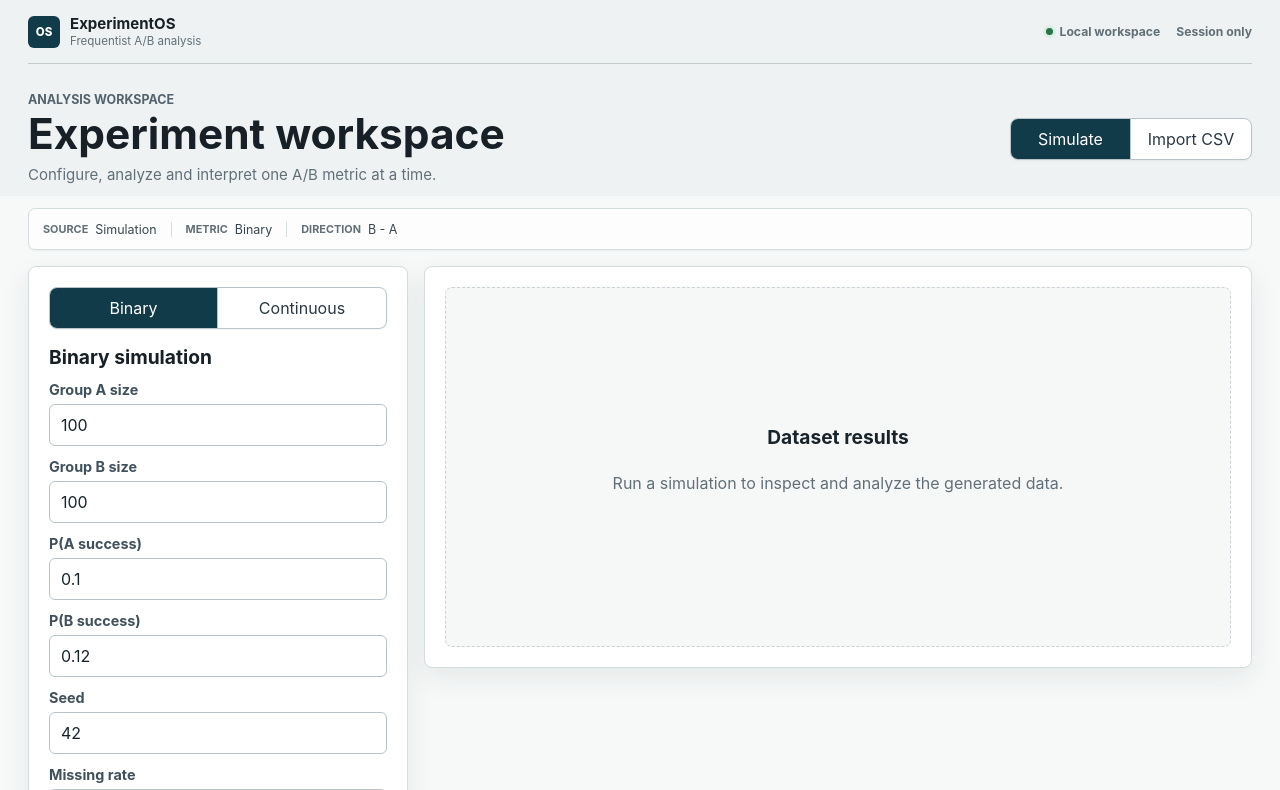
Test: App › forces the two-sided alternative for Mann-Whitney
Click the button "Continuous".
click(302, 308)  # box [218, 288, 386, 328]
(page scrolled)
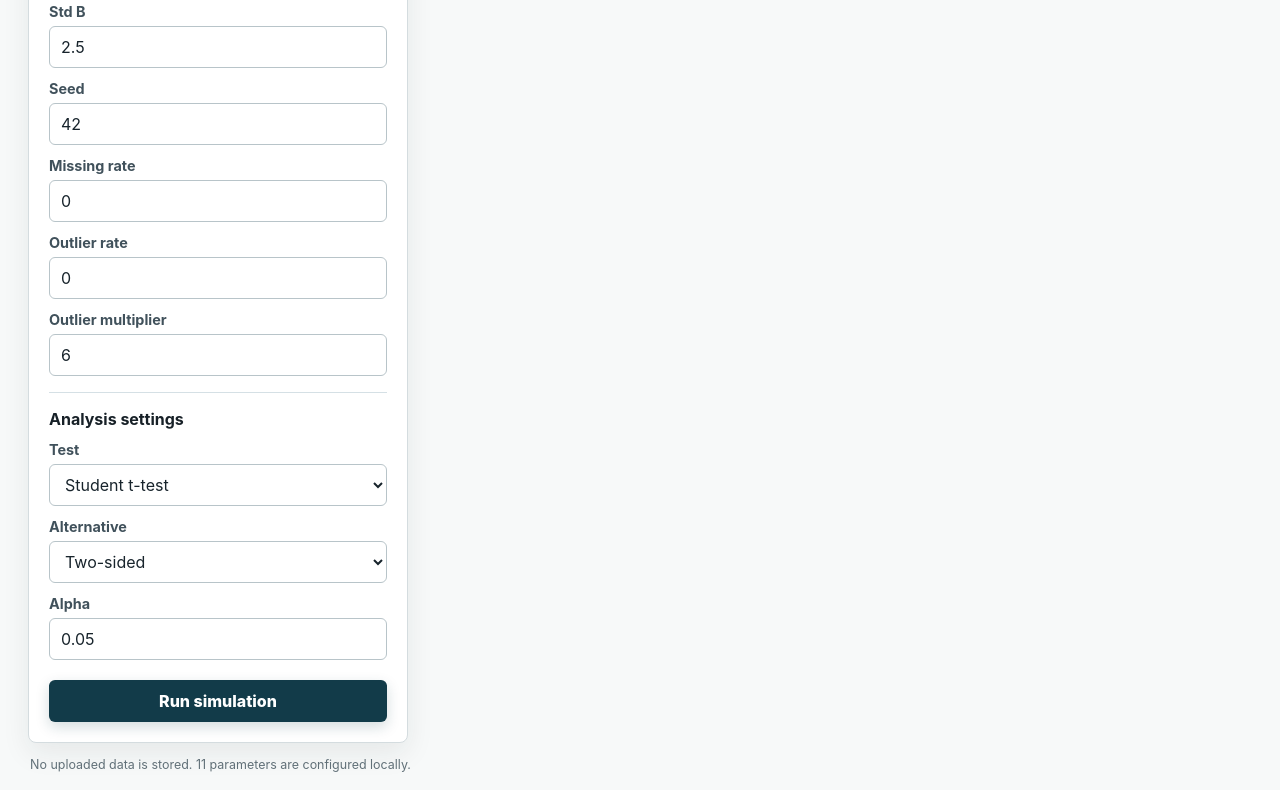
Select "B greater than A" in the dropdown labelled "Alternative" at (218, 562), box [49, 541, 387, 583]
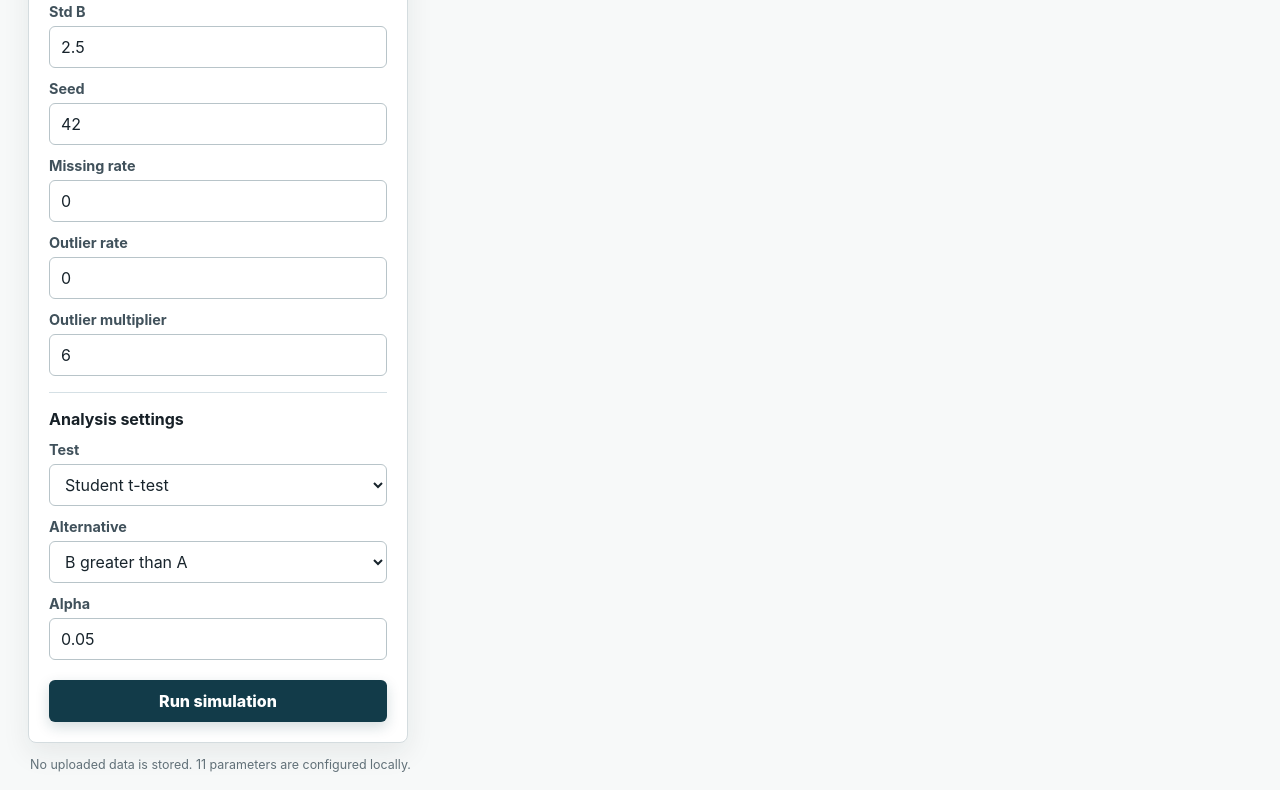
Select "Mann-Whitney U test" in the dropdown labelled "Test" at (218, 485), box [49, 464, 387, 506]
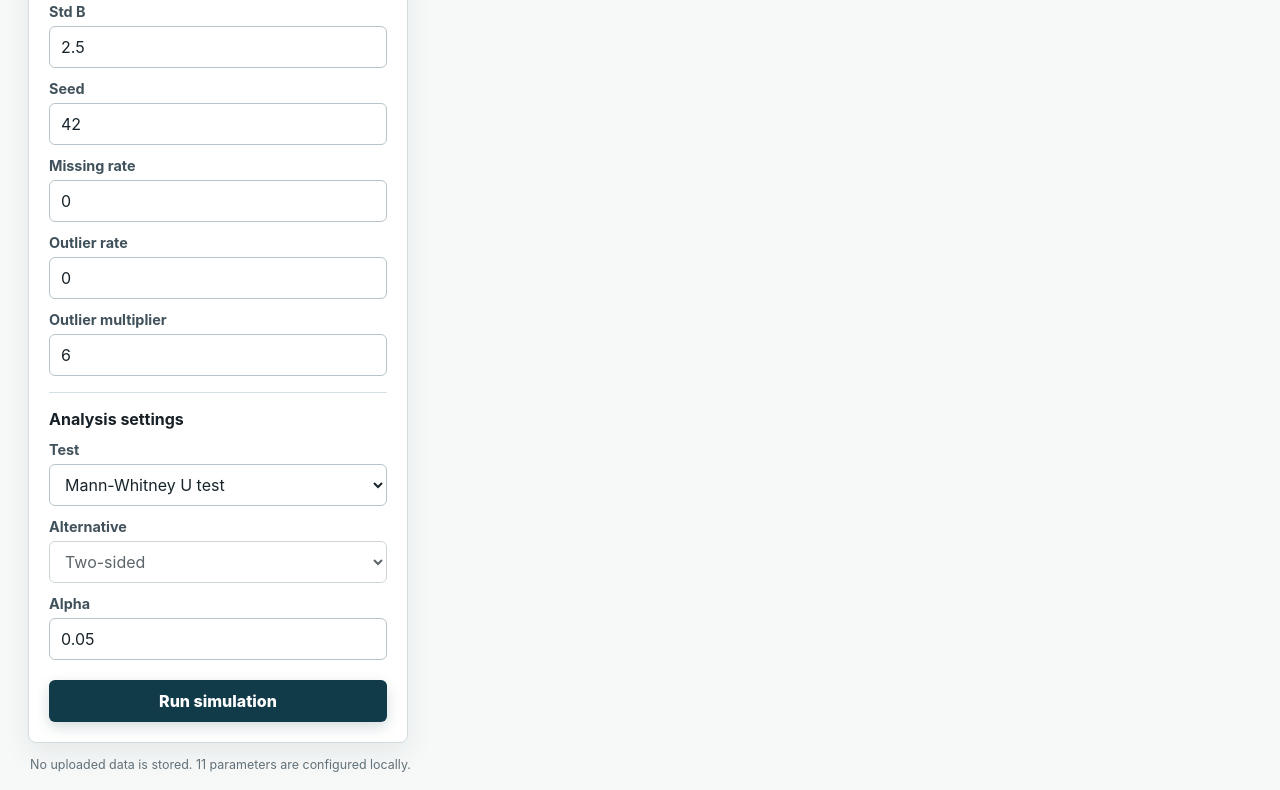
expect the dropdown labelled "Alternative" is disabled: met, box [49, 541, 387, 583]
